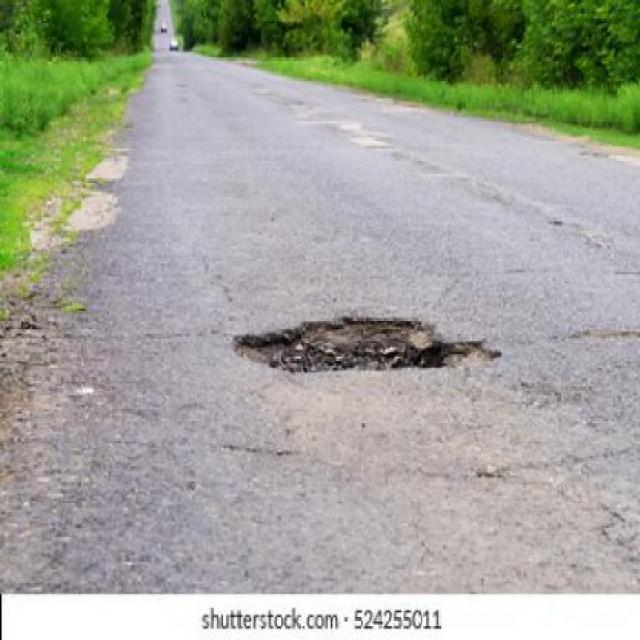Pothole: (231, 315, 503, 377)
